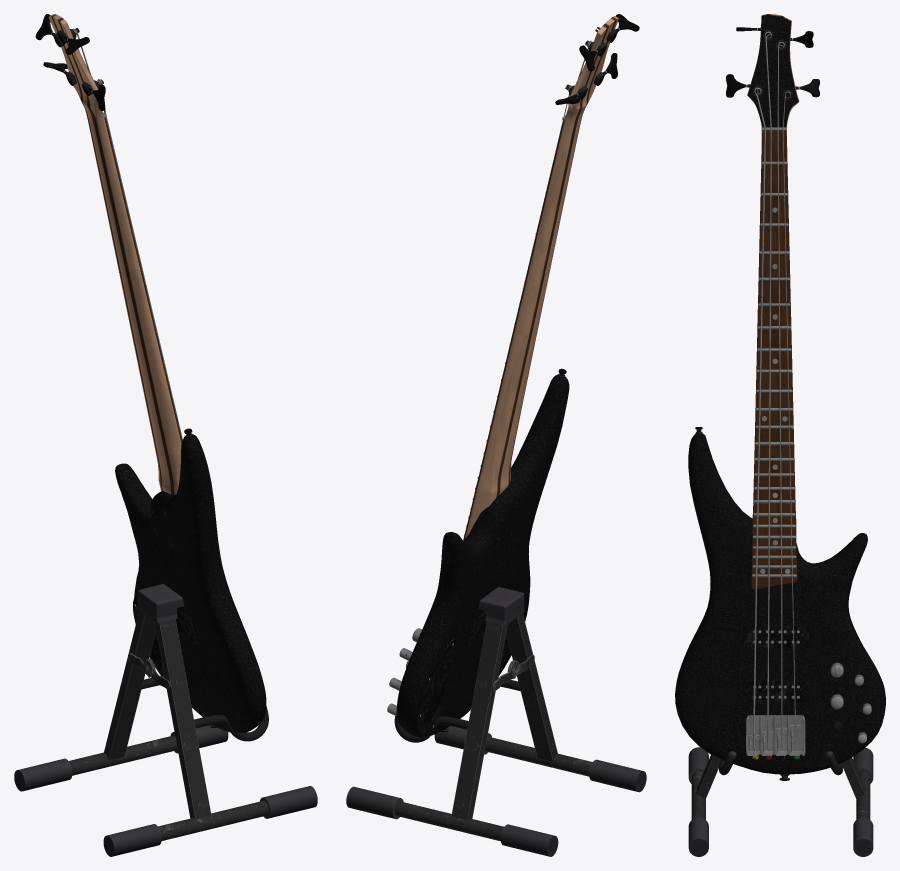
The model's file is guitar.glb.
3 renders of one model, left to right at view 1: azimuth 30°, elevation 25°; view 2: azimuth 150°, elevation 25°; view 3: azimuth 270°, elevation 25°, orthographic. The views are drawn at different scales.
Visible parts, largest first — view 1: Object_2, Object_6, Object_4, Object_5; view 2: Object_2, Object_6, Object_4, Object_5; view 3: Object_2, Object_4, Object_6, Object_5.
Part boxes in pixels (x1=…): Object_2: x1=48, y1=14, x2=266, y2=733; Object_6: x1=14, y1=584, x2=317, y2=856; Object_4: x1=43, y1=28, x2=216, y2=727; Object_5: x1=35, y1=14, x2=105, y2=110; Object_2: x1=396, y1=16, x2=618, y2=737; Object_6: x1=346, y1=587, x2=646, y2=856; Object_4: x1=399, y1=27, x2=599, y2=732; Object_5: x1=387, y1=14, x2=639, y2=716; Object_2: x1=675, y1=14, x2=885, y2=774; Object_4: x1=695, y1=29, x2=863, y2=780; Object_6: x1=688, y1=747, x2=873, y2=856; Object_5: x1=726, y1=27, x2=871, y2=759.
Size of the model in its own units: 0.3704 by 1.29 by 0.3288.
Materials: 3 (3 with a texture image).
